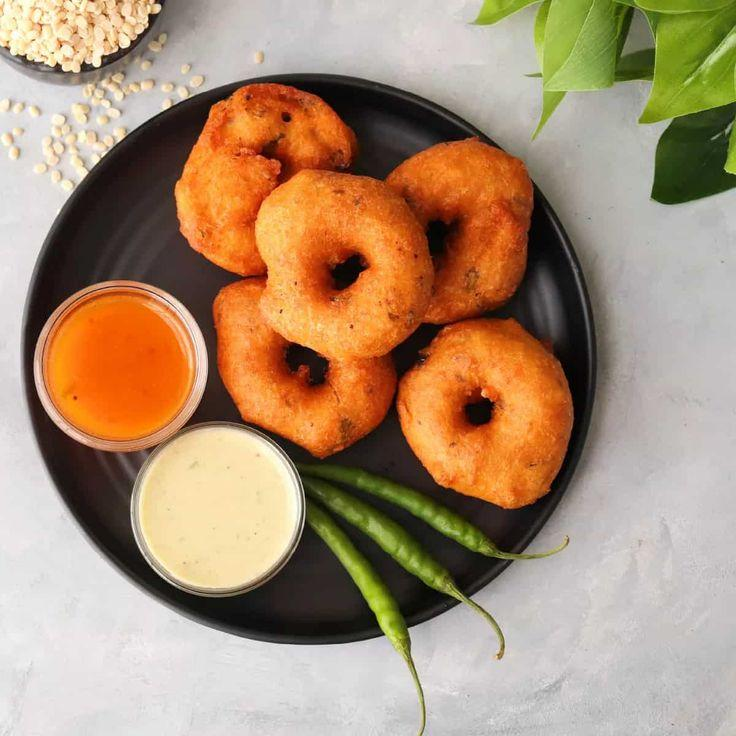coconut chutney: (138, 441, 295, 593)
medu vada: (170, 90, 566, 502)
sambhar: (44, 301, 195, 444)
